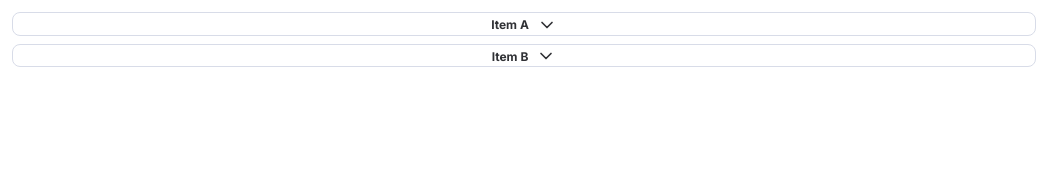
Test case: Accordion › keeps multiple items open in multiple mode
The image size is (1048, 172).
Click the button "Item A" at (524, 25), box [13,15,1035,35]
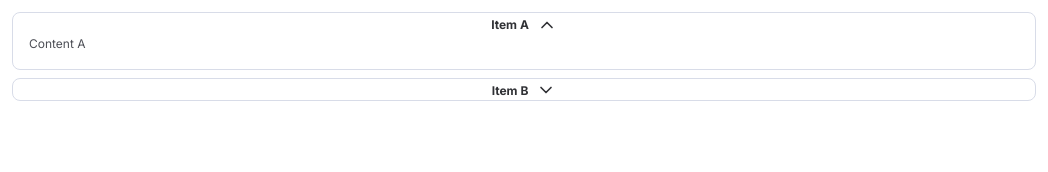
Click the button "Item B" at (524, 90), box [13,80,1035,100]
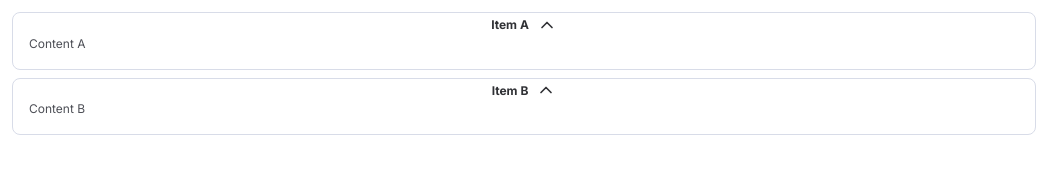
Now the button "Item A" is expanded, box [13,15,1035,35]
Now the button "Item B" is expanded, box [13,80,1035,100]
